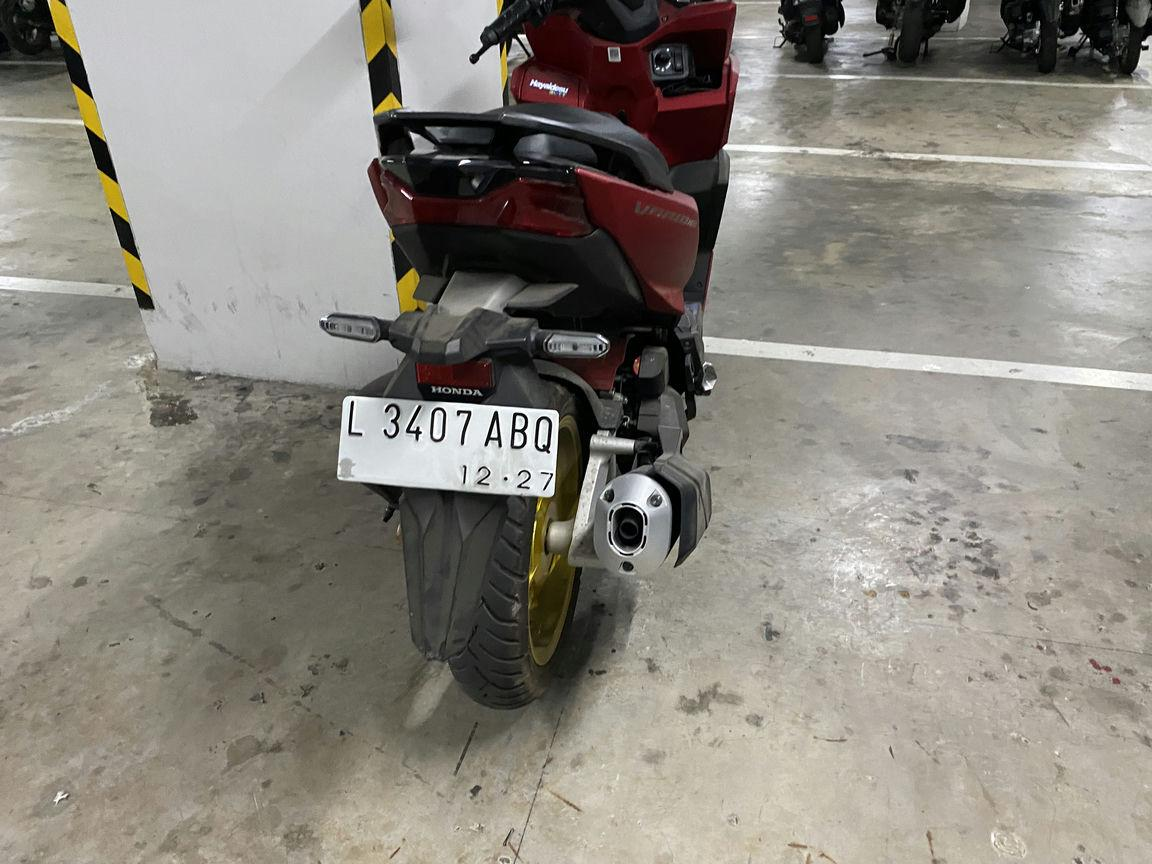plat: (338, 396, 560, 497)
